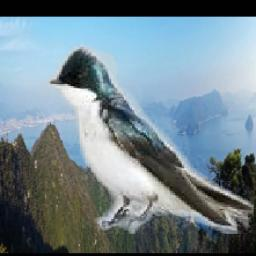Swallow: (45, 43, 254, 235)
